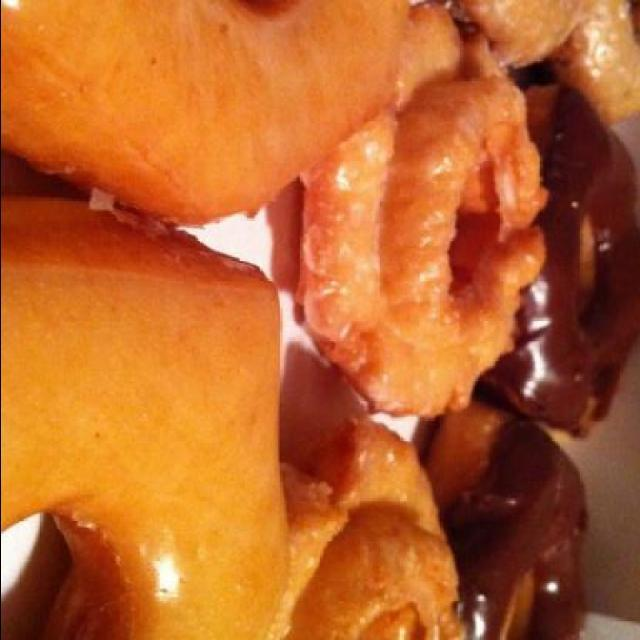Donuts: (7, 3, 638, 640)
